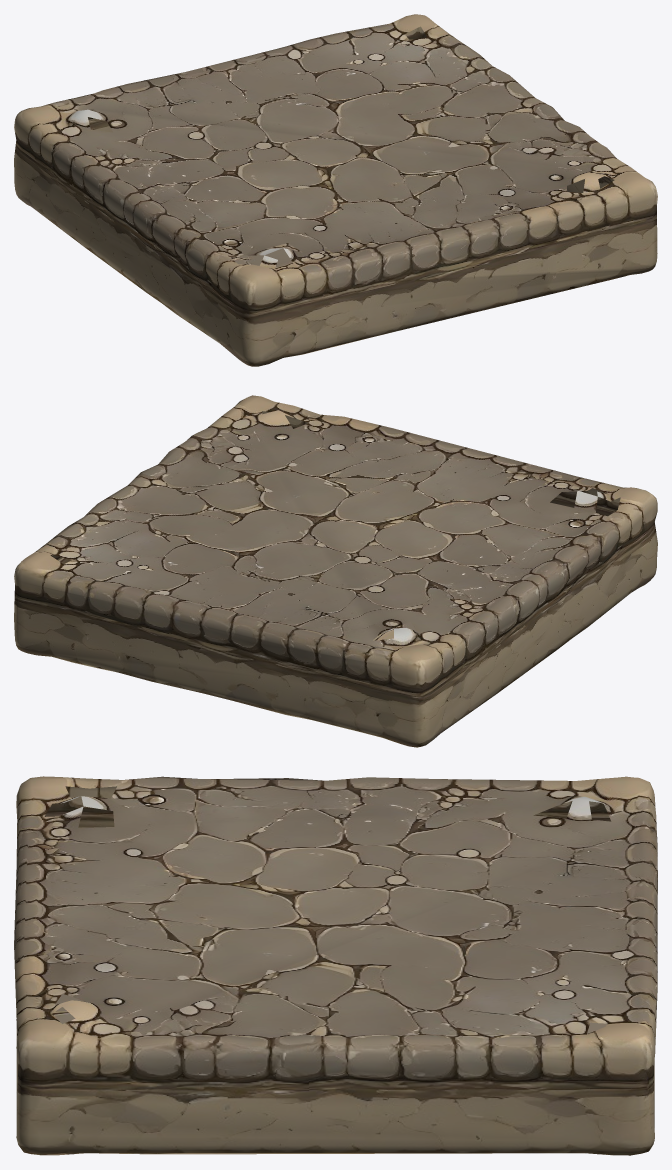
File: baldosa_de_piedra.glb
3 views of the same model, one above another, from view 1: azimuth 30°, elevation 25°; view 2: azimuth 150°, elevation 25°; view 3: azimuth 270°, elevation 25° (orthographic). The views are drawn at different scales.
Visible parts, largest first — view 1: baldosa_de_piedra; view 2: baldosa_de_piedra; view 3: baldosa_de_piedra.
Boxes of the visible parts, x1,y1,x2,y2 form: baldosa_de_piedra: (14,14,657,366); baldosa_de_piedra: (14,395,657,747); baldosa_de_piedra: (14,776,657,1155).
Size of what is drawn, in the model's own units: 1.2 by 0.2592 by 1.2.
Materials: 1 (1 with a texture image).
